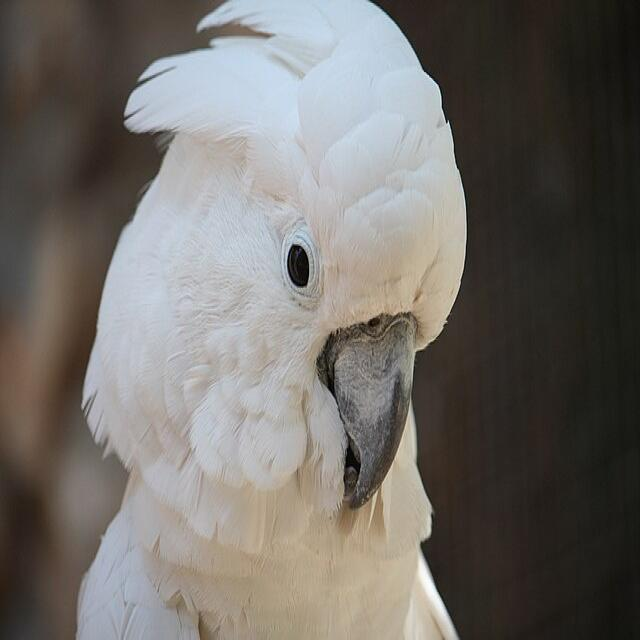Kakatua Putih: (54, 0, 510, 640)
